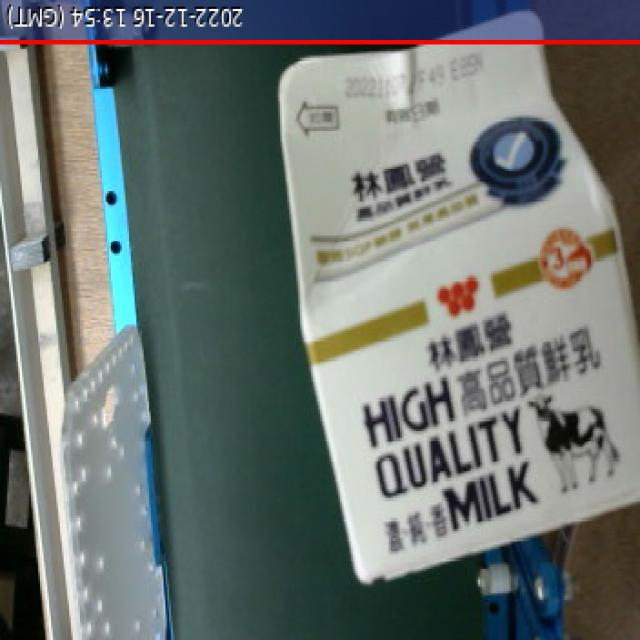non_white_jug: (270, 9, 640, 594)
